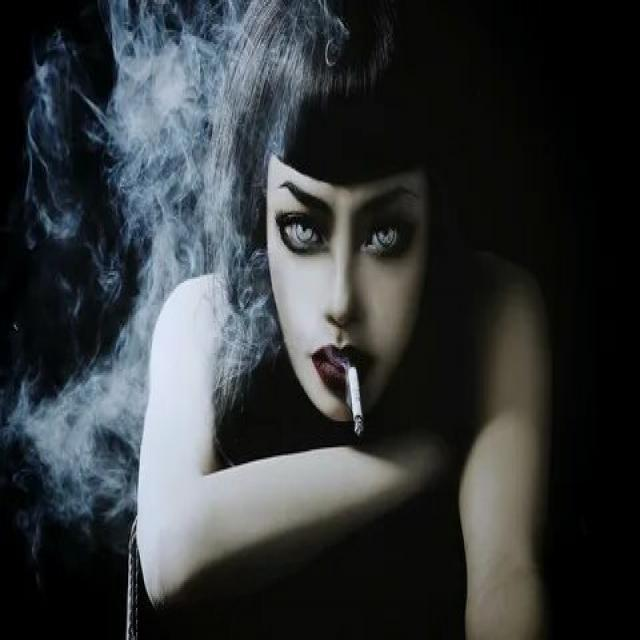smoke: (345, 361, 367, 442)
